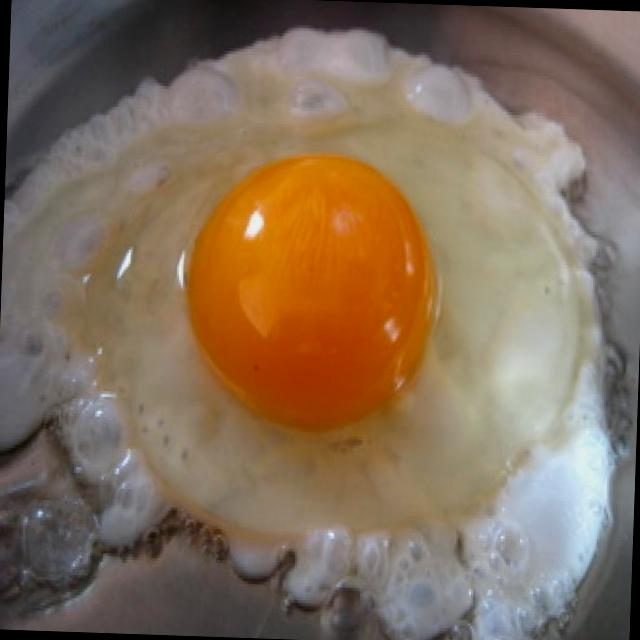Egg: (3, 9, 626, 634)
